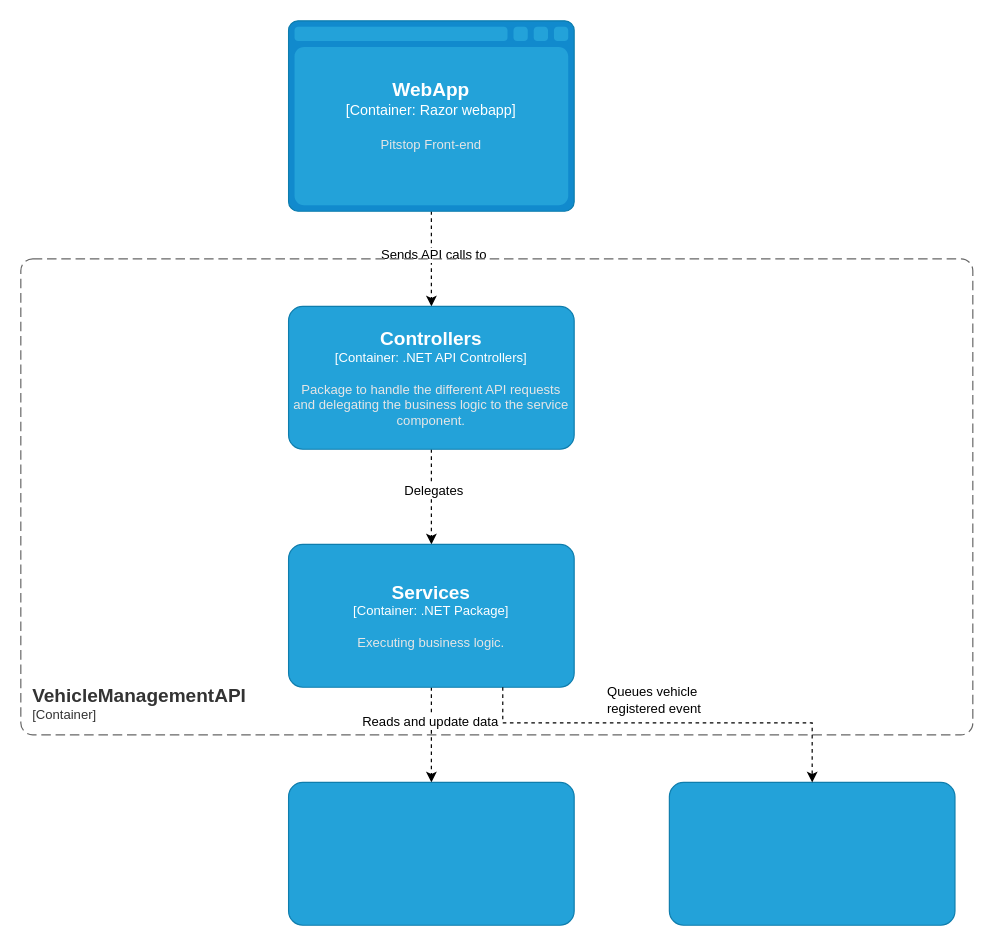
Some shapes in this 994 by 946 pixel diagram are drawn without their labels. Here are the shapes that lost their labels. From the top down, the centre of each, then its label:
At point (430, 853): "VehicleManagement [Container: SQL Server 2019] Stores the data of the rentals.".
At point (811, 853): "RabbitMQ [Container: RabbitMQ] Sends events to the correct exchanges and queues.".
